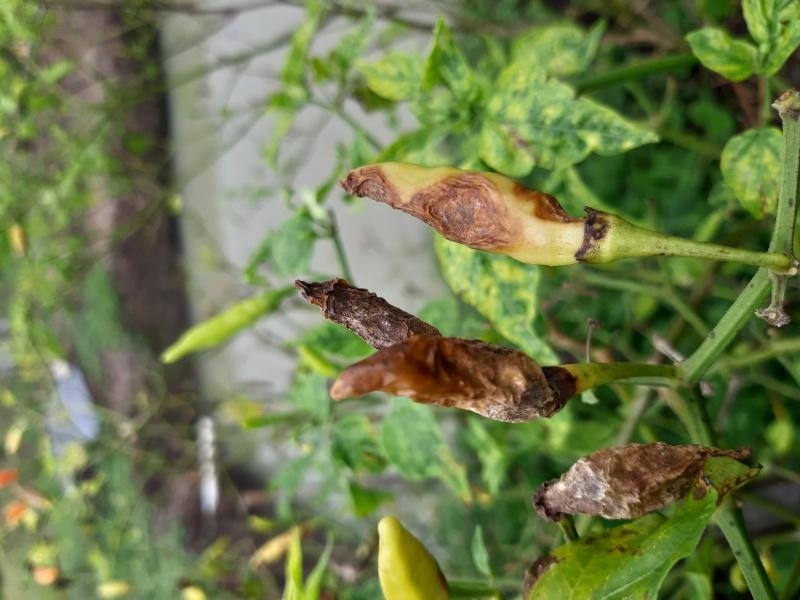antraknosa: (336, 161, 586, 269), (328, 334, 560, 426), (534, 440, 755, 518), (296, 278, 445, 348), (378, 516, 456, 598)
